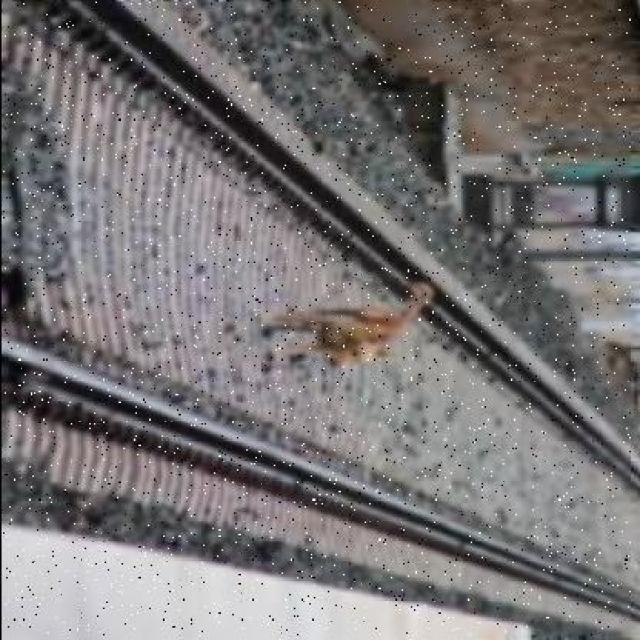rail: (3, 3, 629, 636)
